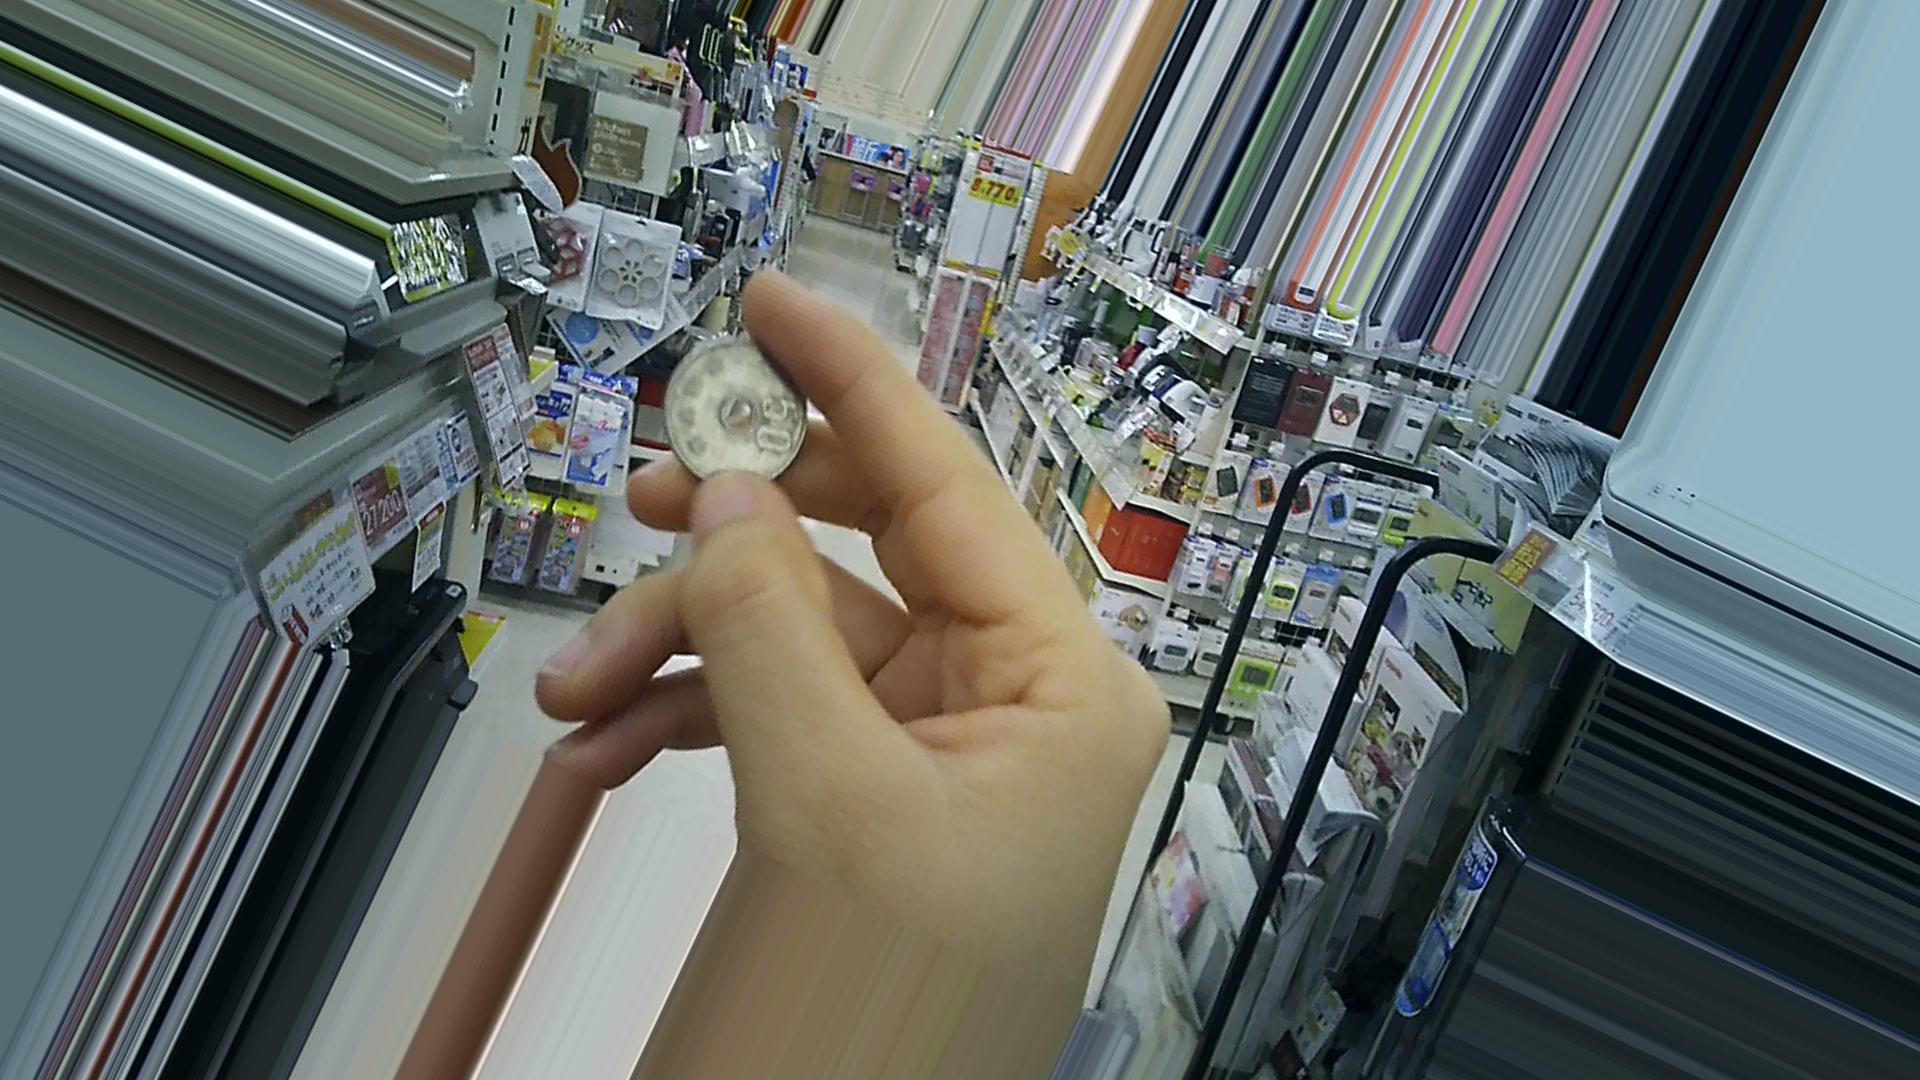50 Yen: (655, 328, 824, 483)
